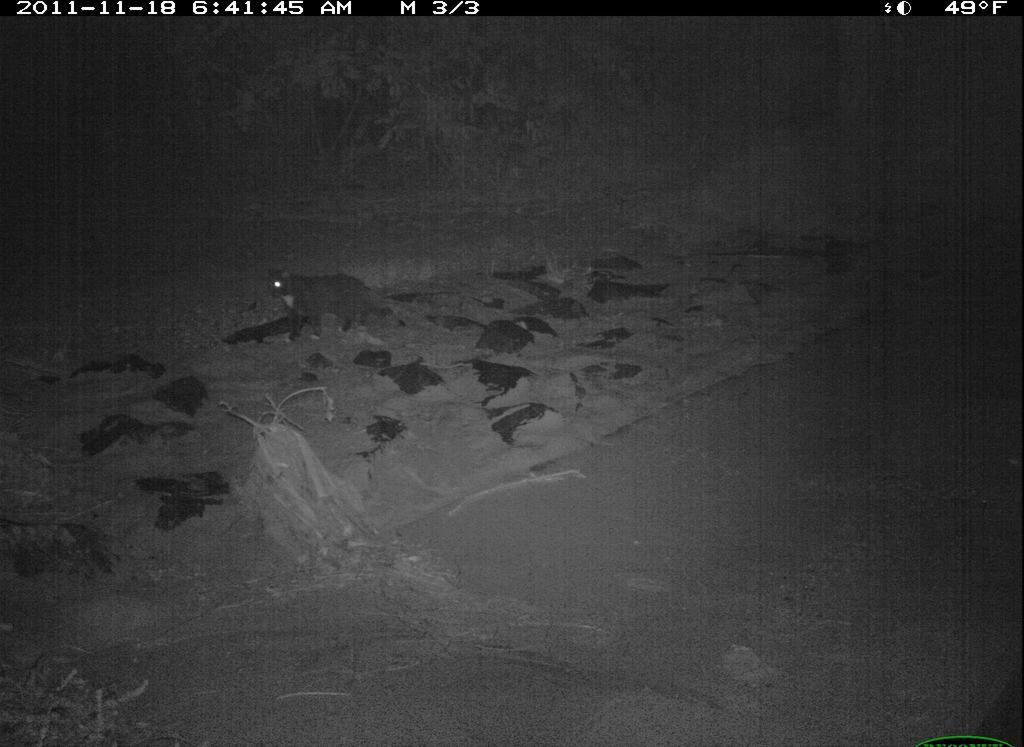cat: (260, 263, 427, 353)
